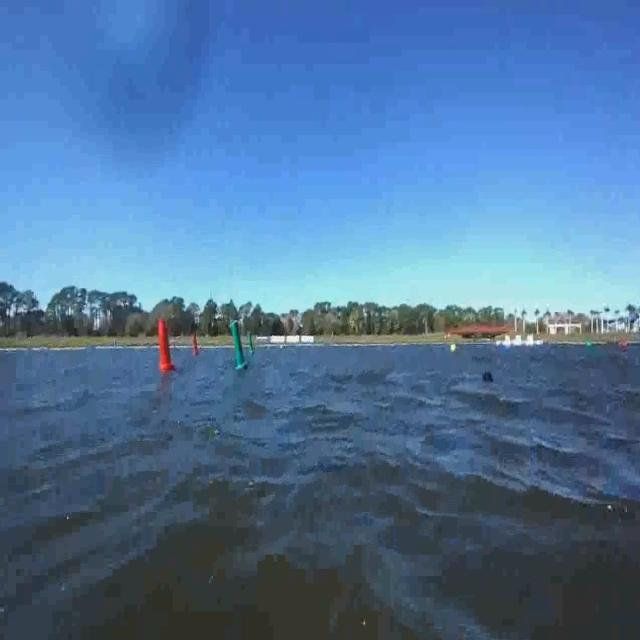black-buoy: (482, 366, 496, 384)
green-column-buoy: (231, 320, 250, 371), (248, 332, 255, 352)
red-column-buoy: (158, 318, 176, 372), (190, 333, 200, 358)
yellow-buoy: (448, 341, 456, 356)
